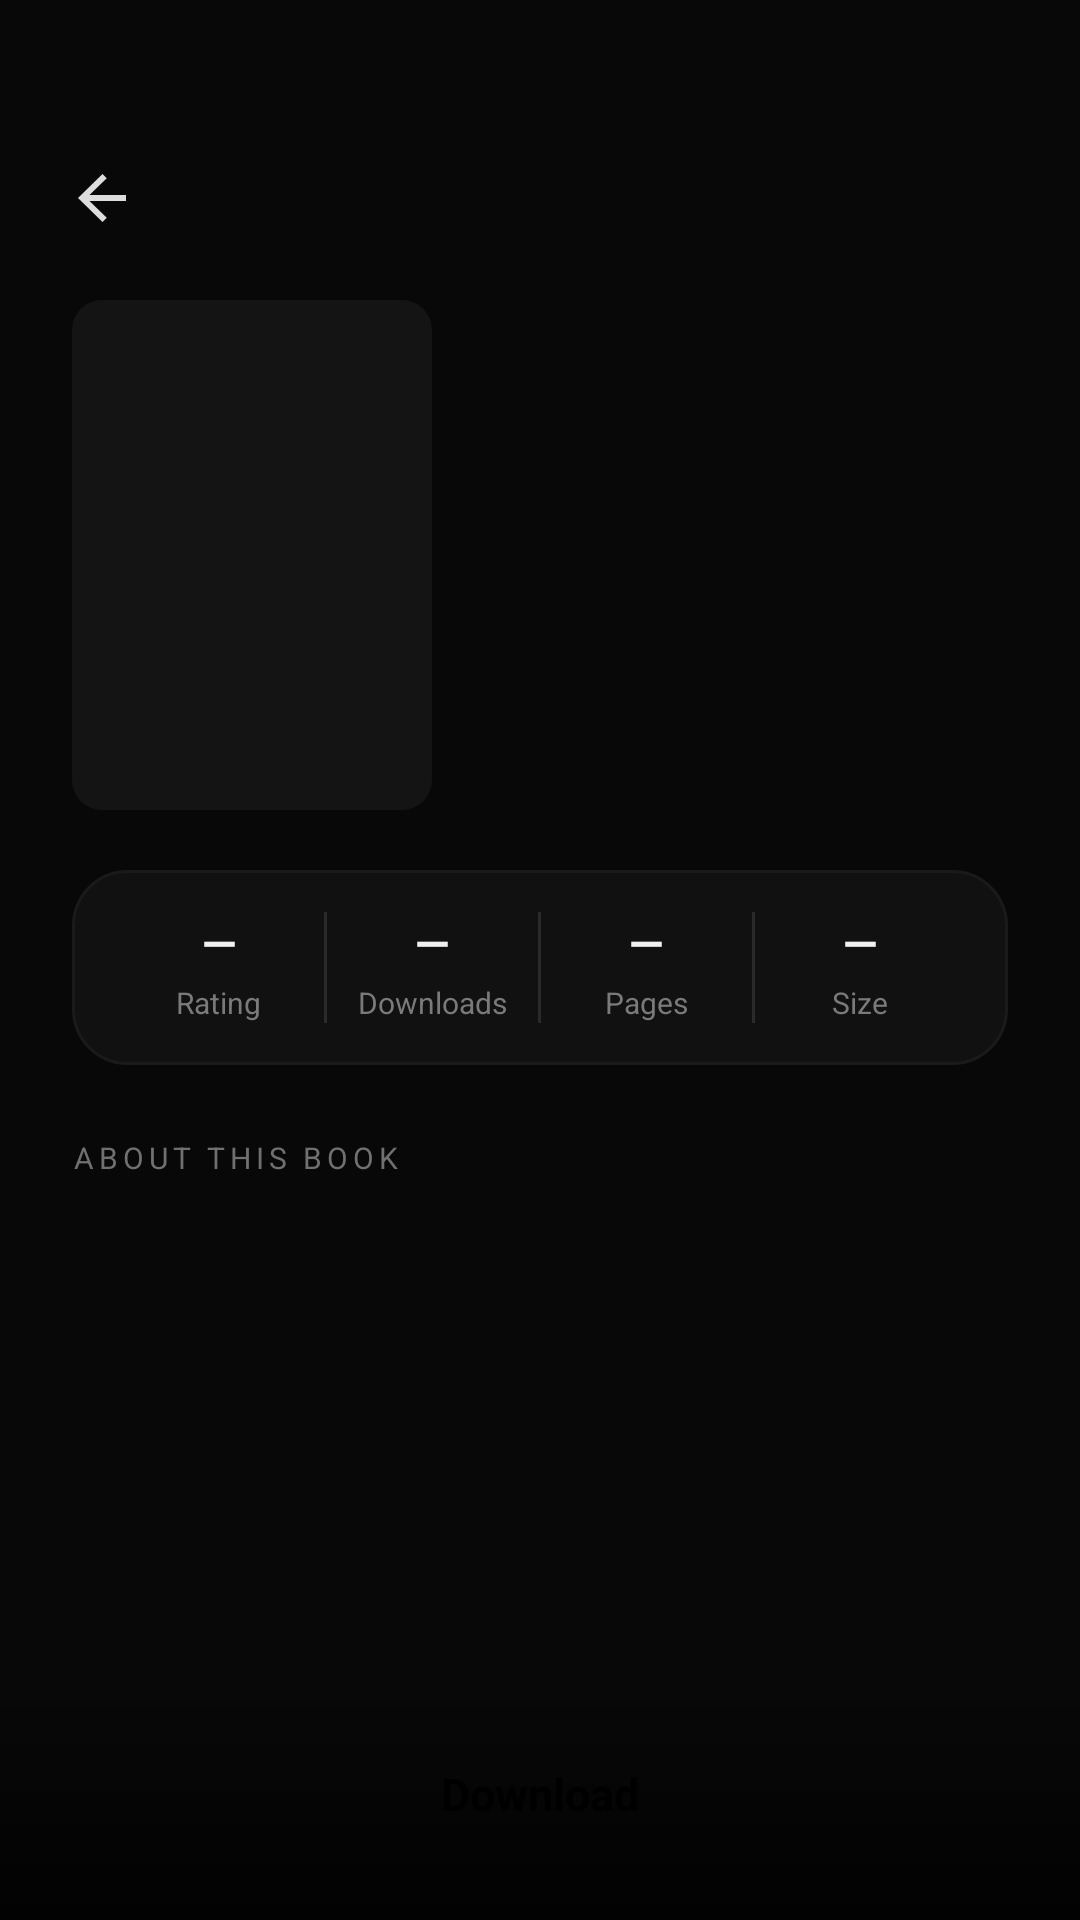

Icons on this 1080 x 1920 Android screen, each with its box as (x1, y1, x2, y2):
Back: (78, 174, 126, 222)
